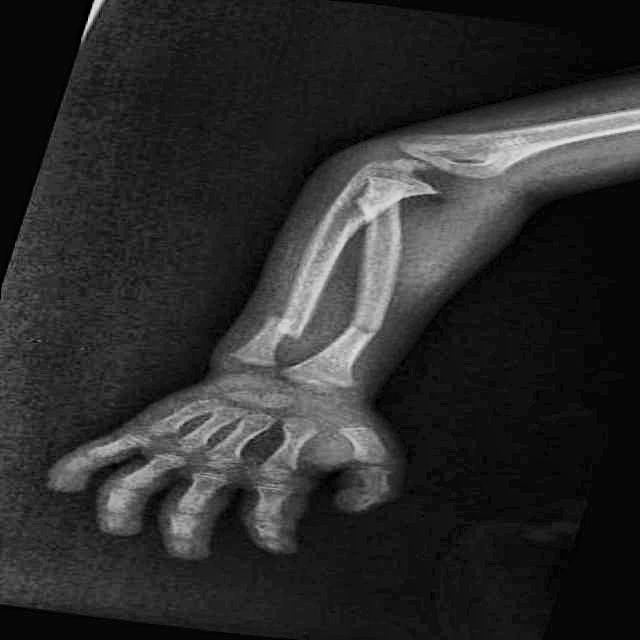Transverse: (221, 299, 321, 355)
Transverse Displaced: (326, 304, 409, 352)
